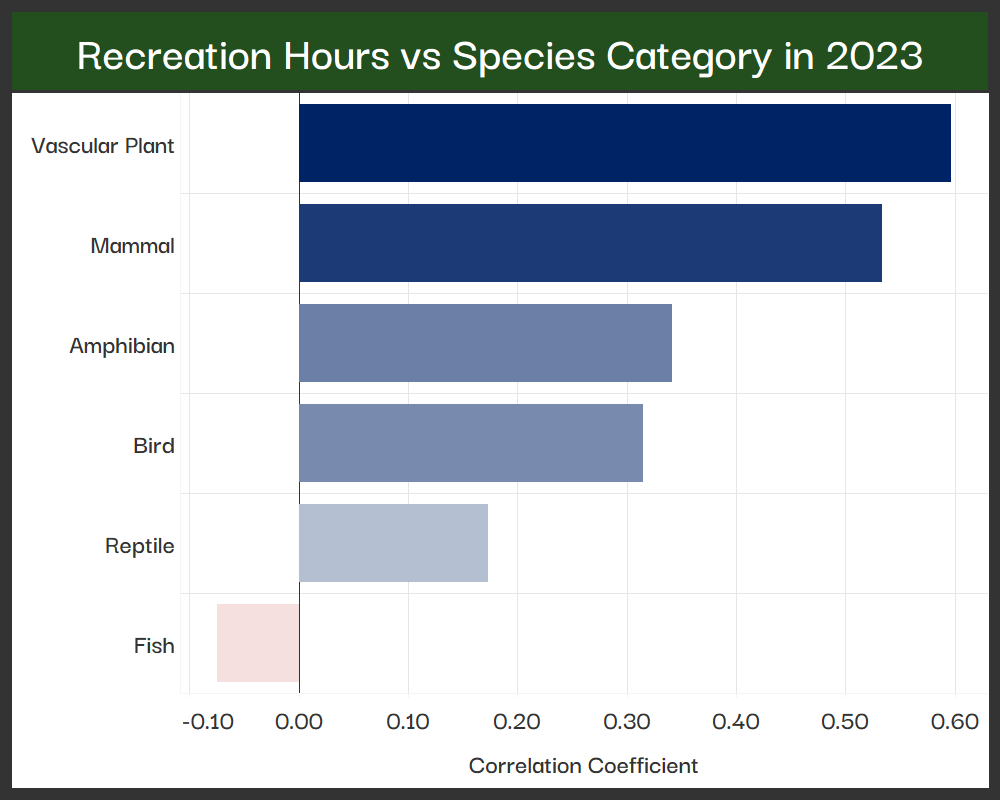

The page's visual inventory and layout, read from the dashboard file:
{"tool":"tableau","page":{"name":"RH vs Bio Corr","canvas":[1000,800],"ordinal":3},"visuals":[{"type":"worksheet","title":"Recreation Hours vs Species Category in 2023","mark":"Automatic","rows":["Category"],"cols":["RecreationHours"],"box":[8,8,984,784]}]}

Visuals, with their boxes in screenshot pixels (x1, y1, x2, y2), scaled from the page's 1000x800 canvas onto the 1000x800 screenshot:
"Recreation Hours vs Species Category in 2023" worksheet: <region>8, 8, 992, 792</region>
